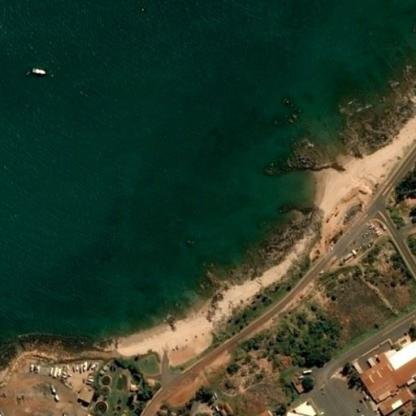ship: (23, 59, 48, 84)
